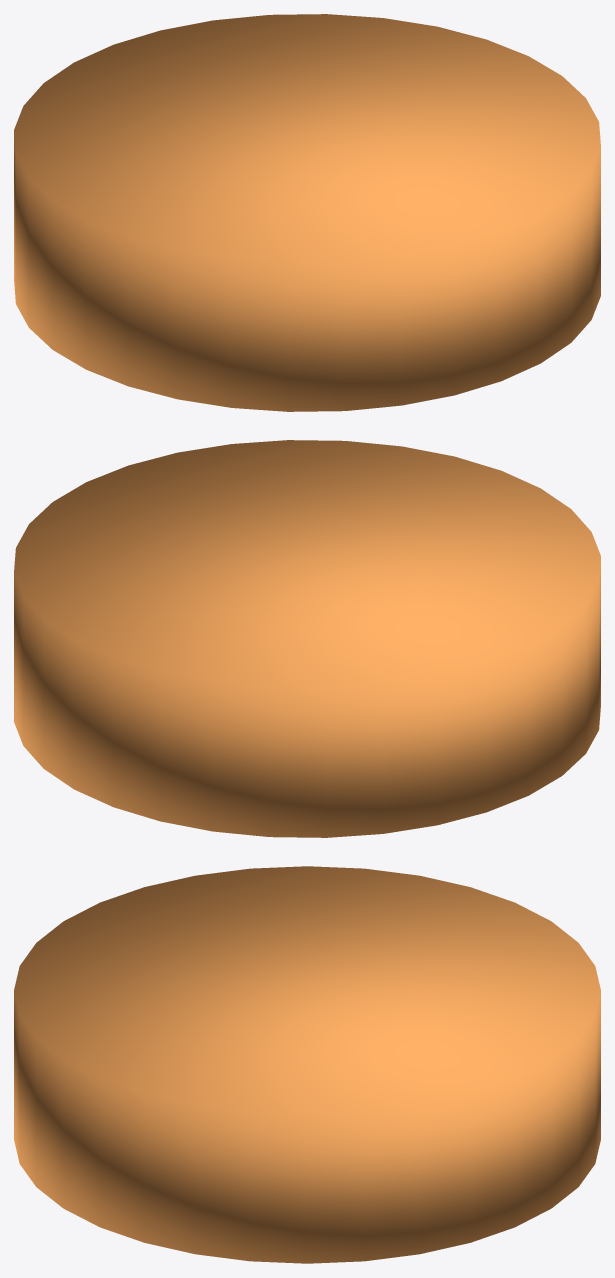
File: testCoin.glb
3 renders of one model, top to bottom at view 1: azimuth 30°, elevation 25°; view 2: azimuth 150°, elevation 25°; view 3: azimuth 270°, elevation 25°, orthographic.
Visible parts, largest first — view 1: Cylinder; view 2: Cylinder; view 3: Cylinder.
Part boxes in pixels (<box>): Cylinder: <box>14,14,600,411</box>; Cylinder: <box>14,440,600,837</box>; Cylinder: <box>14,866,600,1263</box>.
Bounding box in the file's own units: 2 × 0.5617 × 2.
